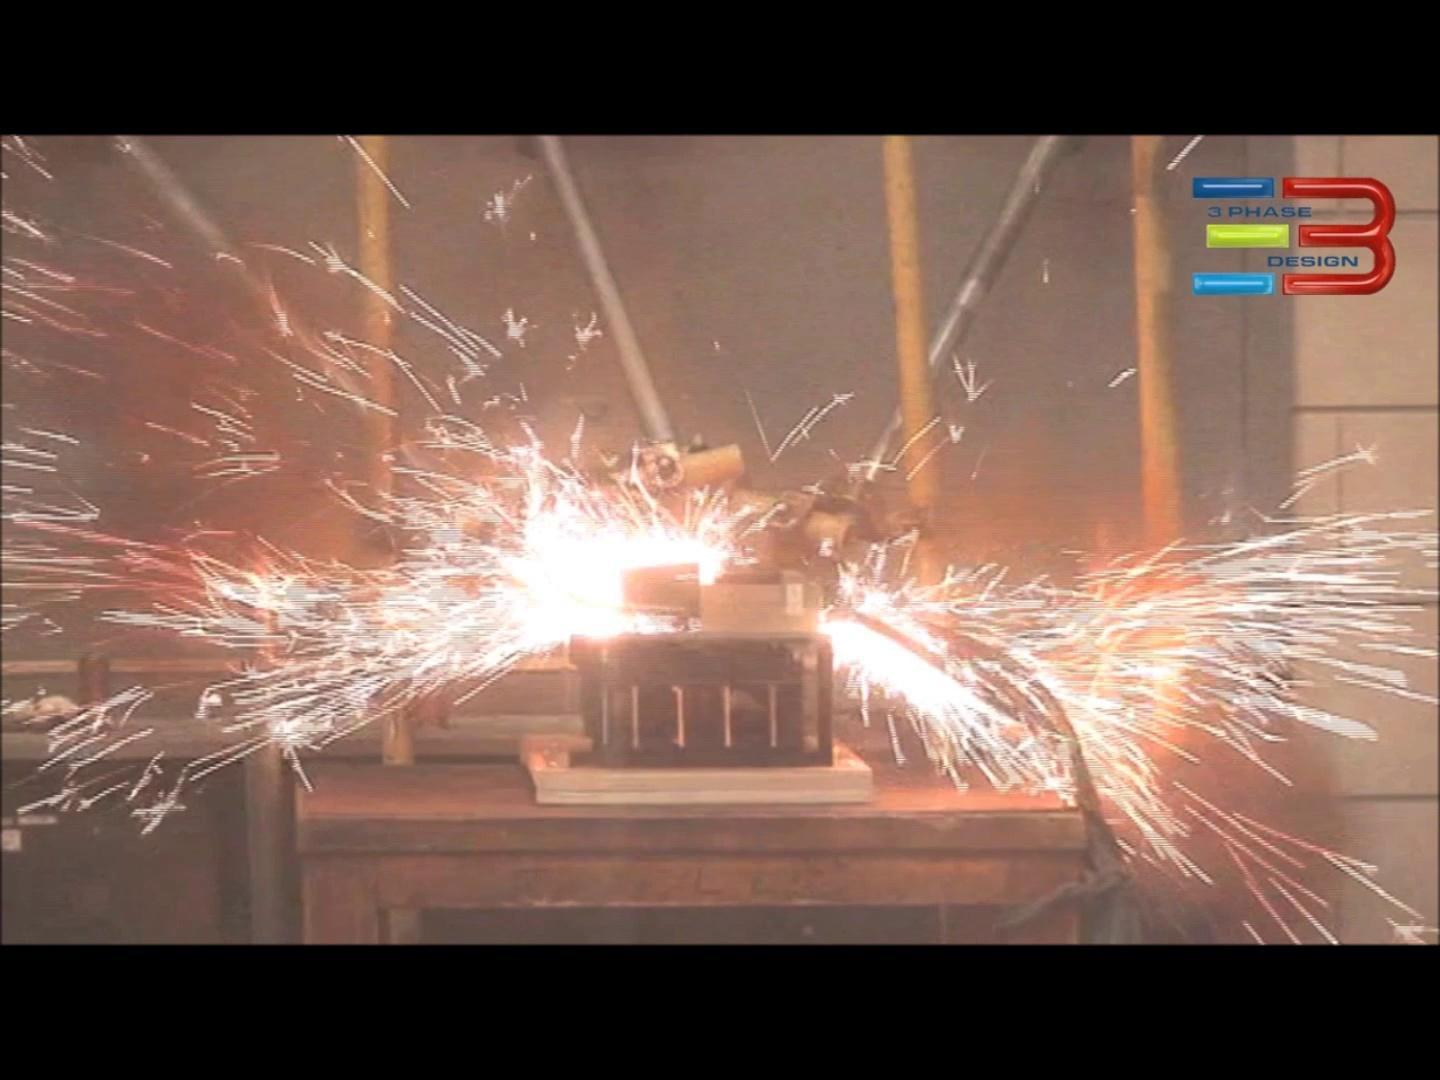fire: (135, 317, 1296, 819)
